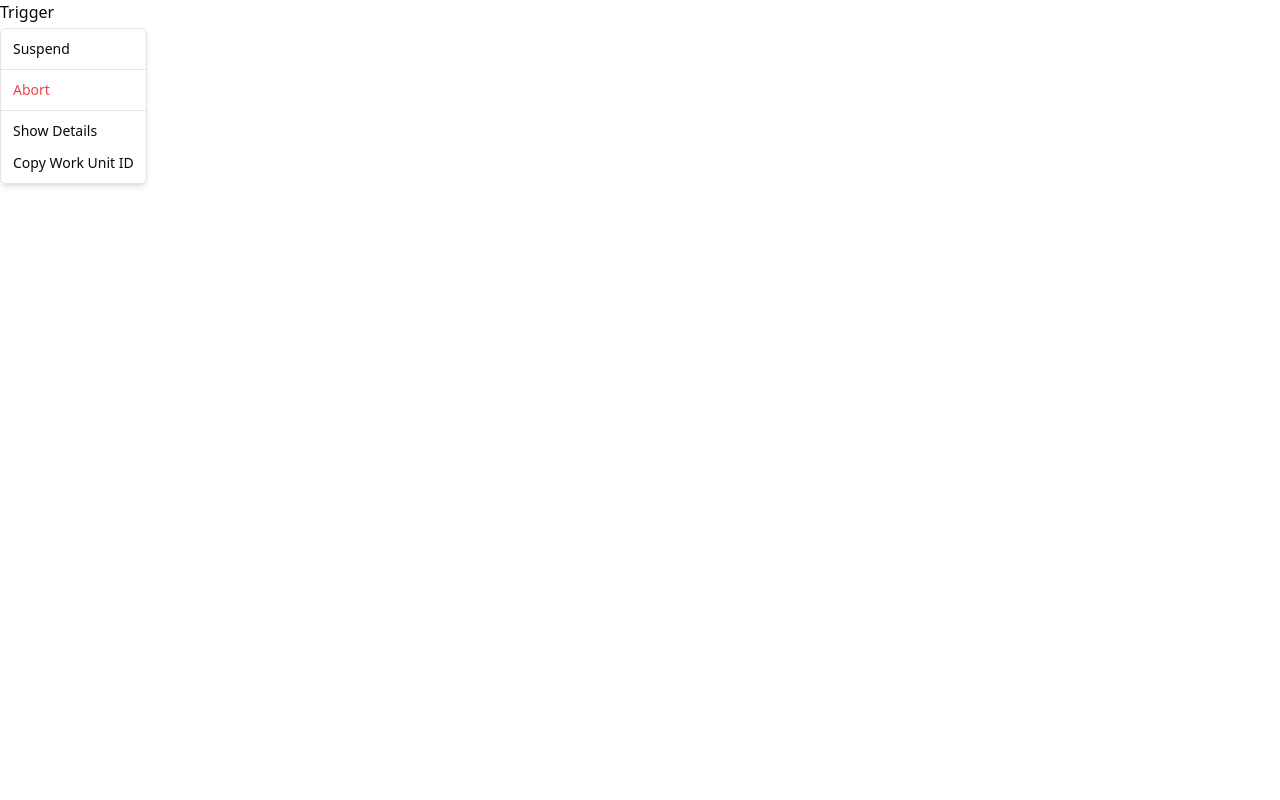
Test case: TaskContextMenu › opens abort confirmation dialog when Abort is clicked
What coordinates should you click on to do the following:
click the menu item "Abort"
I would click on:
 (31, 90)
Its box is top-left (13, 80), bottom-right (50, 99).
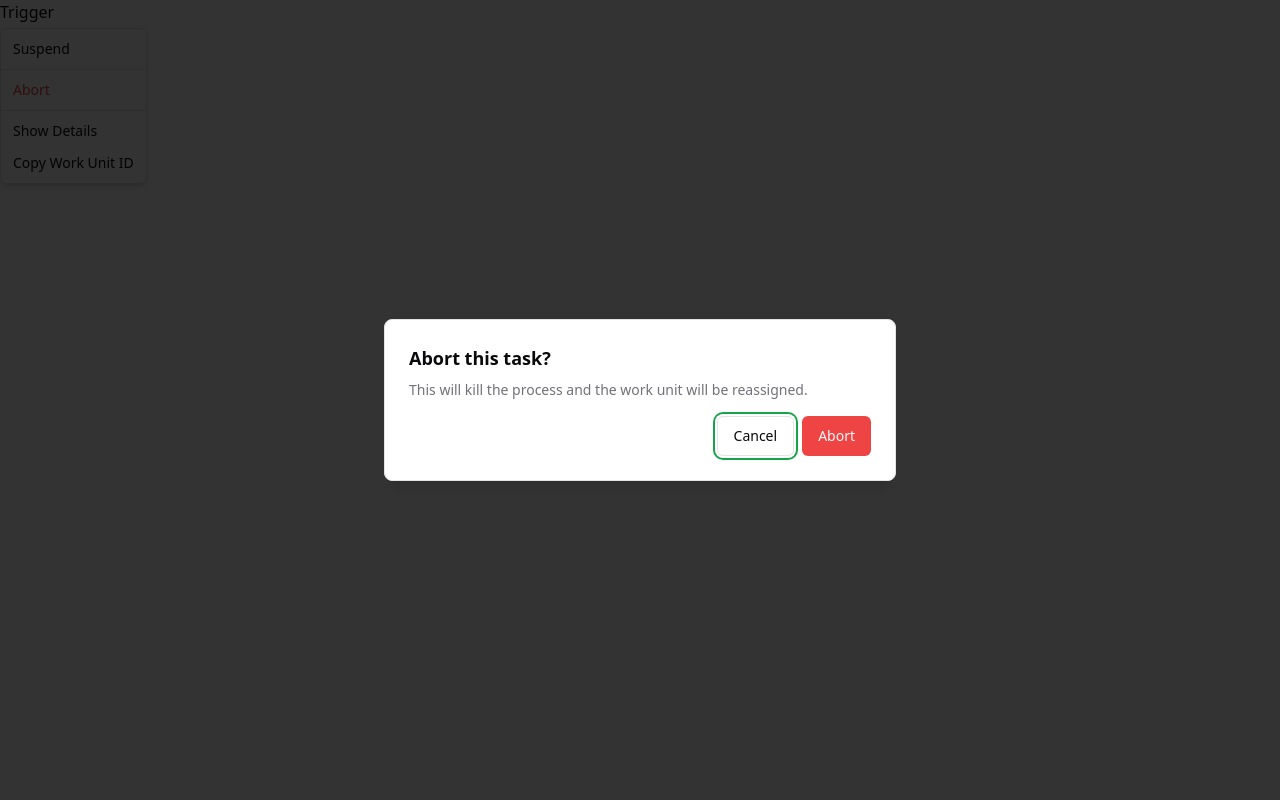
Expected: the heading "Abort this task?" is shown, top-left (409, 346), bottom-right (551, 370)
Expected: the text "This will kill the process and the work unit will be reassigned." is shown, top-left (409, 380), bottom-right (871, 400)
